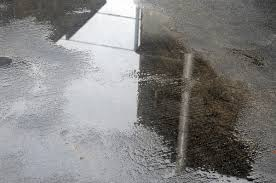Wet-floor: (48, 0, 262, 180)
